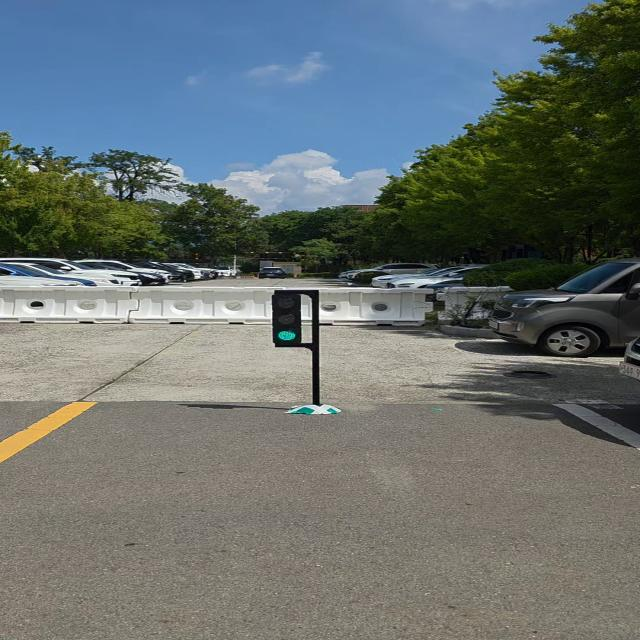green: (271, 291, 304, 347)
